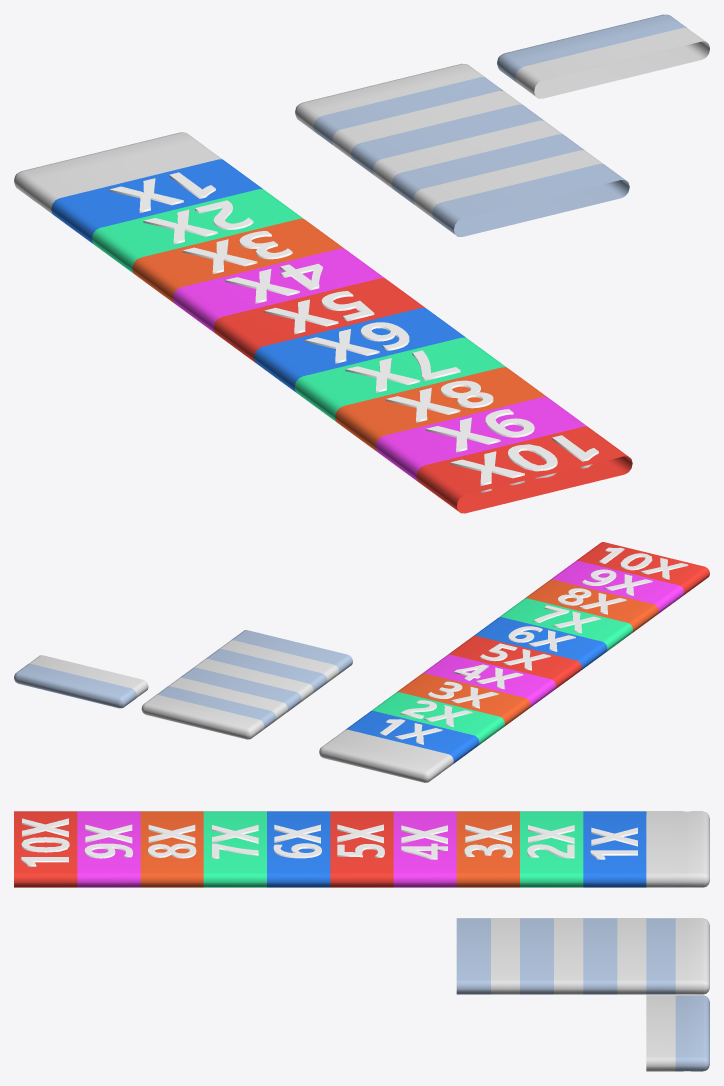
Rendered from Platform.fbx.
3 renders of one model, top to bottom at view 1: azimuth 30°, elevation 25°; view 2: azimuth 150°, elevation 25°; view 3: azimuth 270°, elevation 25°, orthographic. The views are drawn at different scales.
Parts seen in each view (by area): view 1: BonusPlatform, Platform, Platform_End2, PlatformWhiteEnd, Platform_End; view 2: BonusPlatform, Platform, PlatformWhiteEnd, Platform_End, Platform_End2; view 3: BonusPlatform, Platform, Platform_End, Platform_End2, PlatformWhiteEnd.
Boxes of the visible parts, x1,y1,x2,y2 form: BonusPlatform: [51, 159, 632, 513]; Platform: [332, 90, 629, 236]; Platform_End2: [497, 14, 709, 98]; PlatformWhiteEnd: [14, 132, 222, 215]; Platform_End: [295, 63, 503, 147]; BonusPlatform: [346, 542, 709, 763]; Platform: [168, 630, 352, 720]; PlatformWhiteEnd: [319, 729, 453, 782]; Platform_End: [141, 686, 276, 739]; Platform_End2: [14, 655, 148, 708]; BonusPlatform: [14, 811, 646, 887]; Platform: [456, 918, 646, 994]; Platform_End: [646, 918, 709, 994]; Platform_End2: [646, 995, 709, 1071]; PlatformWhiteEnd: [646, 811, 709, 887].
Bounding box in the file's own units: 7500 × 221 × 8803.
